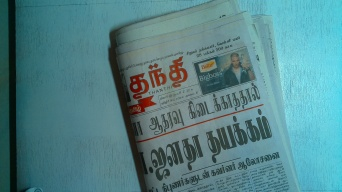p: (110, 3, 301, 192)
